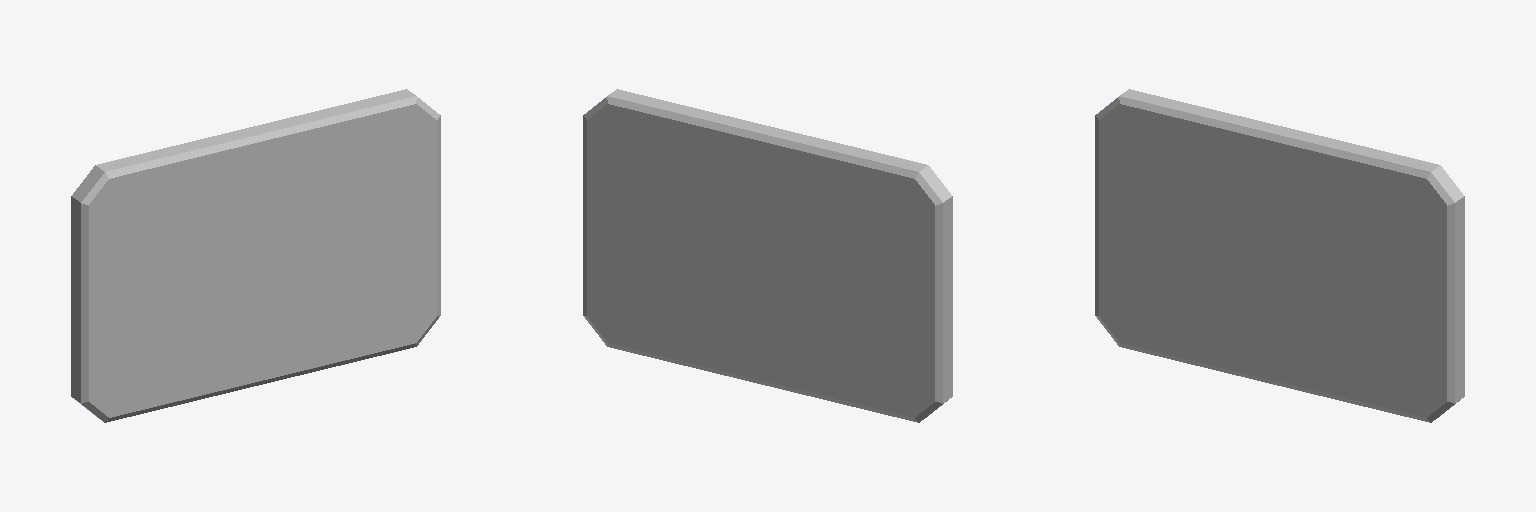
Rendered from keycard.obj.
3 views of the same model, side by side, from view 1: azimuth 30°, elevation 25°; view 2: azimuth 150°, elevation 25°; view 3: azimuth 330°, elevation 25° (orthographic).
Parts seen in each view (by area): view 1: Keycard; view 2: Keycard; view 3: Keycard.
Part boxes in pixels (x1,y1,x2,y2): Keycard: (71, 89, 440, 422); Keycard: (583, 89, 952, 422); Keycard: (1095, 89, 1464, 422).
Size of the model in its own units: 18.02 by 12.01 by 1.19.